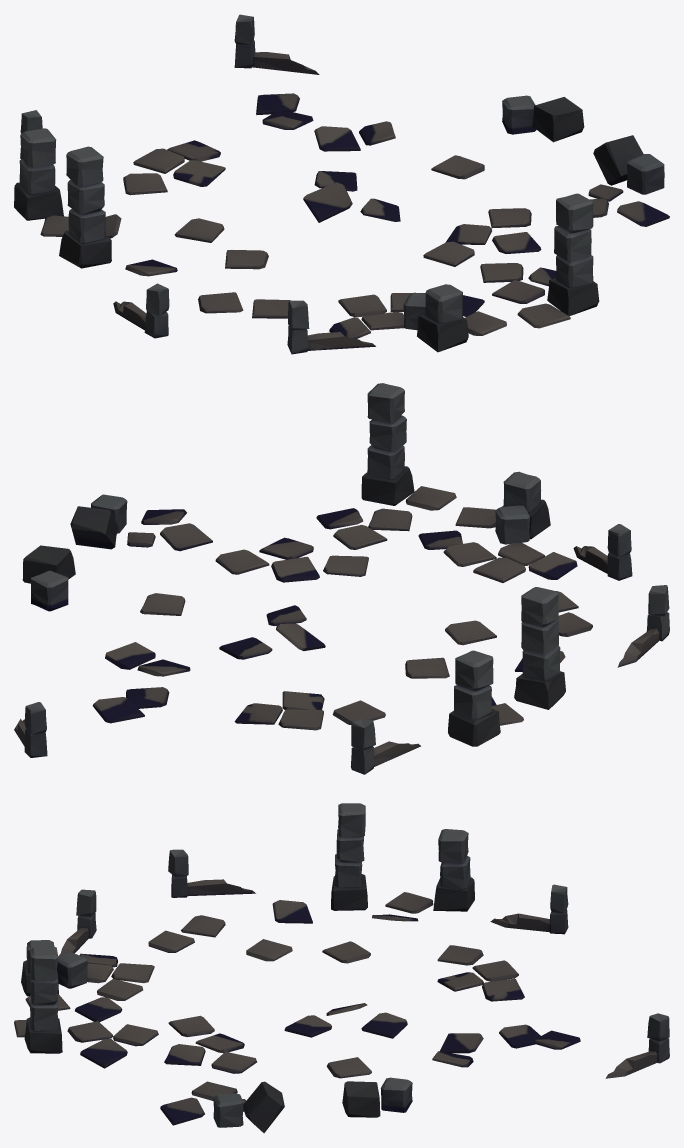
File: Ground_04.FBX
3 renders of one model, top to bottom at view 1: azimuth 30°, elevation 25°; view 2: azimuth 150°, elevation 25°; view 3: azimuth 270°, elevation 25°, orthographic. The views are drawn at different scales.
Parts seen in each view (by area): view 1: Ground_04; view 2: Ground_04; view 3: Ground_04.
Part boxes in pixels (x1=…): Ground_04: x1=14, y1=14, x2=669, y2=354; Ground_04: x1=14, y1=383, x2=669, y2=774; Ground_04: x1=14, y1=803, x2=669, y2=1133.
Size of the model in its own units: 16.35 by 3.37 by 18.92.
